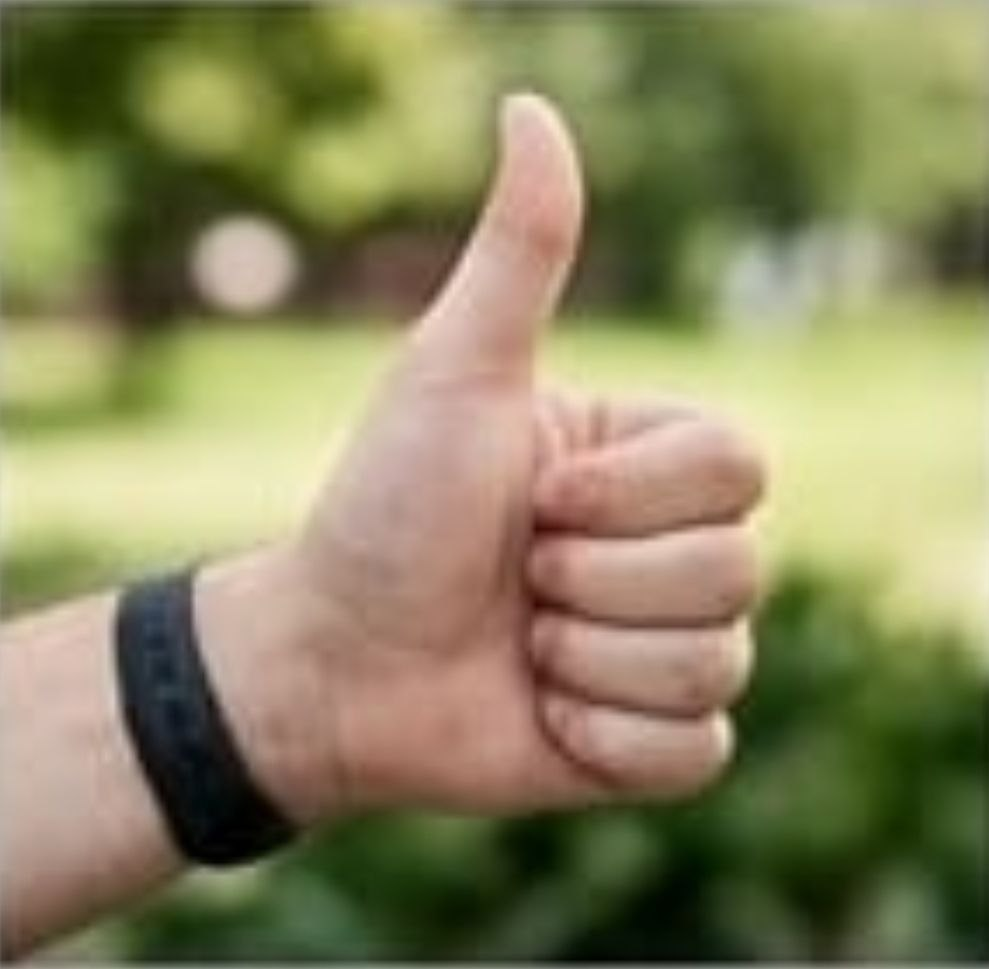Thumbs up: (282, 51, 786, 873)
